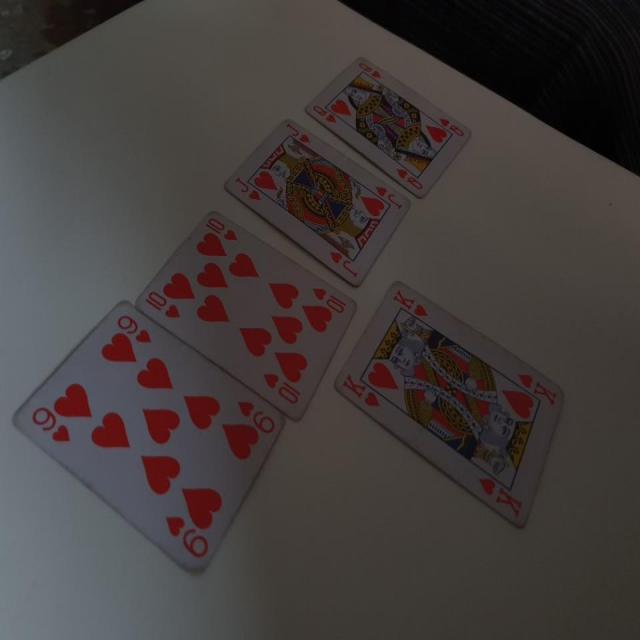10 Hearts: (137, 203, 356, 420)
9 Hearts: (8, 301, 293, 578)
J Hearts: (222, 113, 419, 292)
K Hearts: (329, 282, 574, 544)
Q Hearts: (302, 53, 475, 194)
